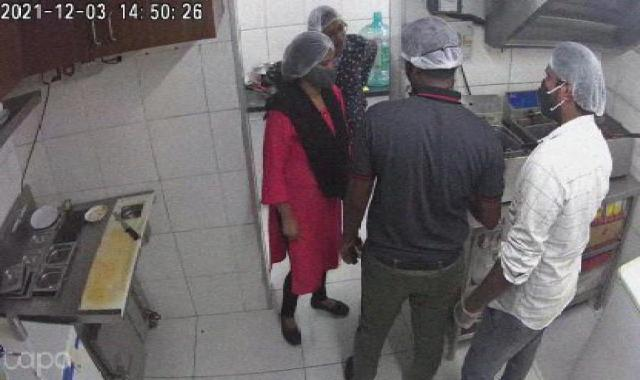hairnet: (540, 38, 608, 119), (398, 14, 470, 77), (276, 31, 334, 82), (304, 5, 347, 34)
